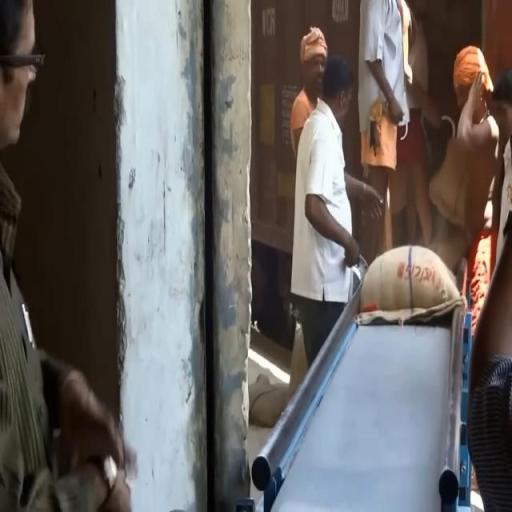c-belt-sack-count: (359, 246, 463, 324)
